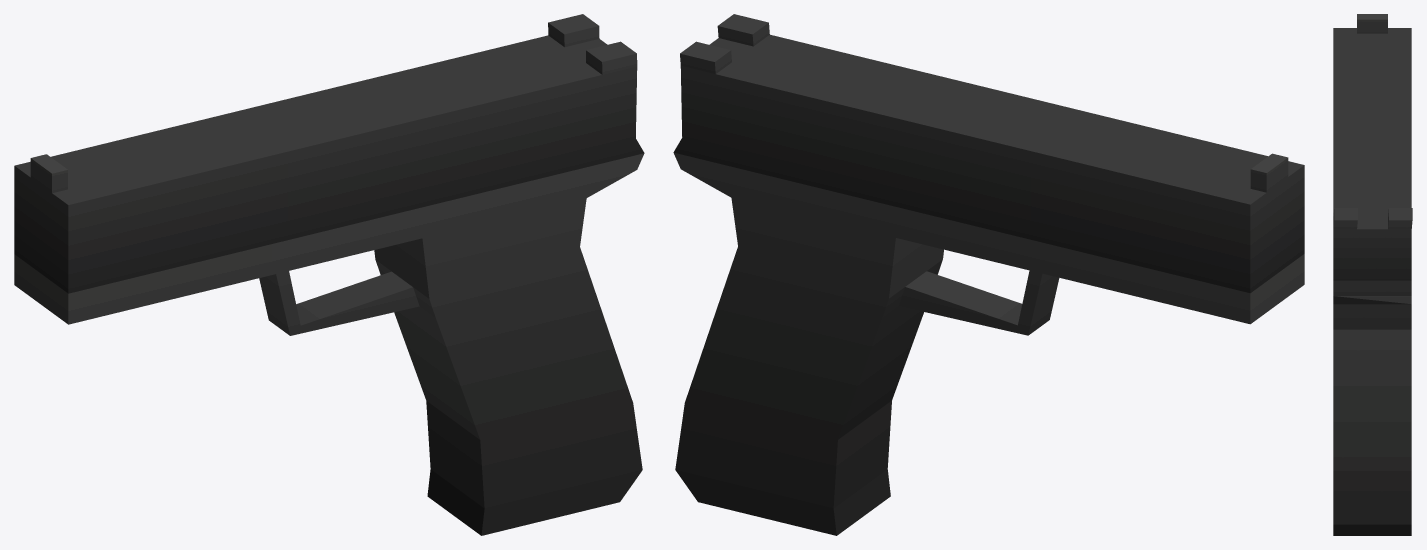
File: Handgun.fbx
3 renders of one model, left to right at view 1: azimuth 30°, elevation 25°; view 2: azimuth 150°, elevation 25°; view 3: azimuth 270°, elevation 25°, orthographic. The views are drawn at different scales.
Parts seen in each view (by area): view 1: Handgun; view 2: Handgun; view 3: Handgun.
Part boxes in pixels (bbox=[...]): Handgun: bbox=[14, 14, 644, 535]; Handgun: bbox=[673, 14, 1304, 535]; Handgun: bbox=[1333, 14, 1412, 535].
Bounding box in the file's own units: 21.74 × 16.27 × 3.57.
